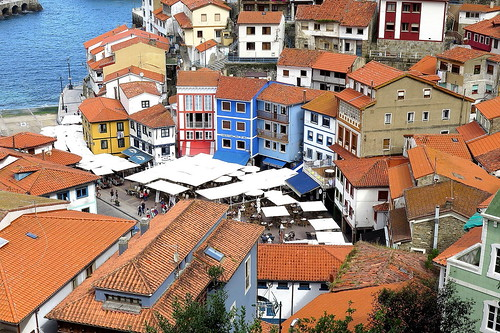building: (80, 195, 256, 333), (338, 67, 472, 165), (438, 196, 500, 333), (80, 25, 177, 90), (78, 98, 175, 162), (1, 141, 90, 206), (290, 1, 376, 52), (254, 83, 305, 165), (214, 78, 265, 160), (172, 1, 231, 66), (300, 88, 339, 169), (177, 72, 214, 149), (234, 11, 287, 60)
sea: (4, 1, 121, 106)
